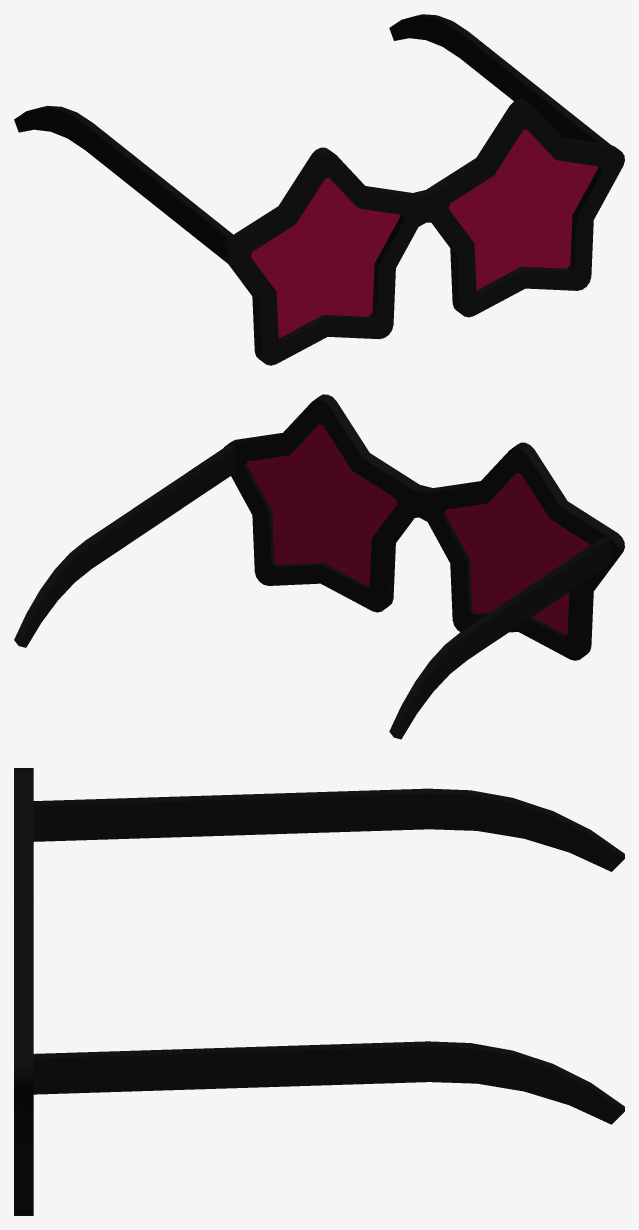
The model's file is Spects_5.FBX.
3 views of the same model, one above another, from view 1: azimuth 30°, elevation 25°; view 2: azimuth 150°, elevation 25°; view 3: azimuth 270°, elevation 25° (orthographic). The views are drawn at different scales.
Parts seen in each view (by area): view 1: 20201005 星のサングラス v2 フレーム; view 2: 20201005 星のサングラス v2 フレーム; view 3: 20201005 星のサングラス v2 フレーム.
Part boxes in pixels (x1,y1,x2,y2): 20201005 星のサングラス v2 フレーム: (14,14,624,365); 20201005 星のサングラス v2 フレーム: (14,394,624,739); 20201005 星のサングラス v2 フレーム: (14,768,624,1215).
Size of the model in its own units: 25.68 by 12.31 by 24.82.
